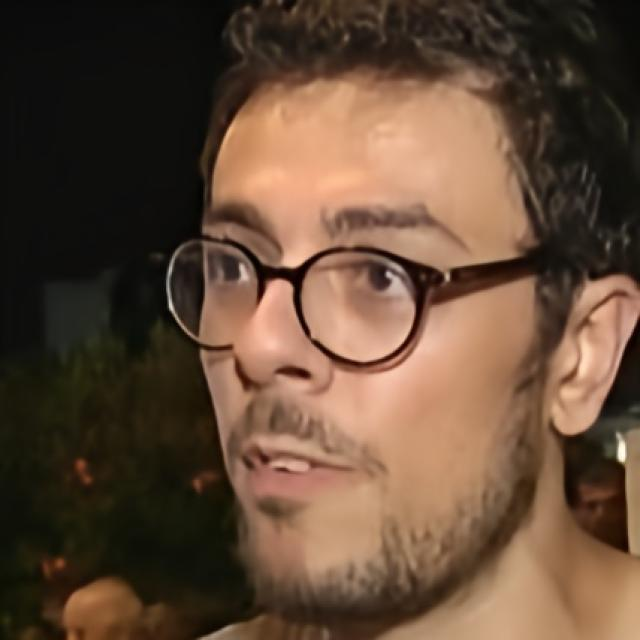surprise: (194, 61, 546, 615)
